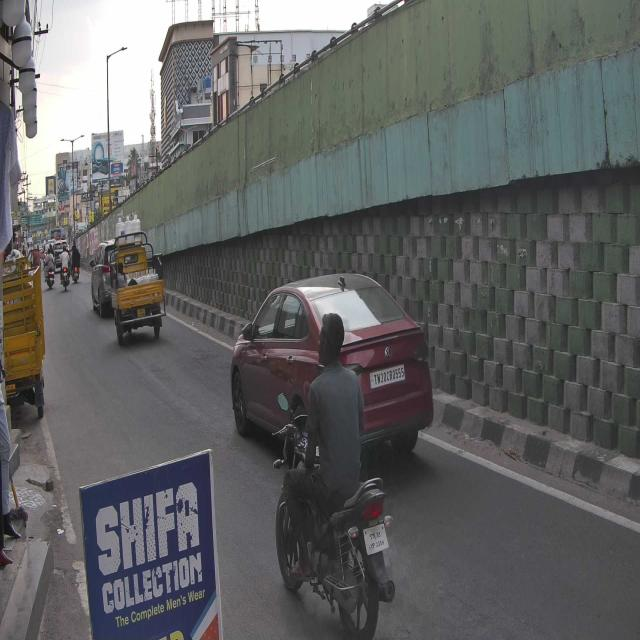single_rider: (269, 311, 397, 640)
